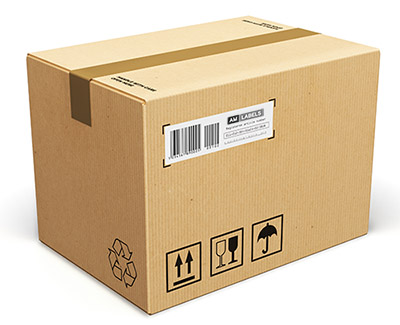stock: (26, 16, 380, 316)
